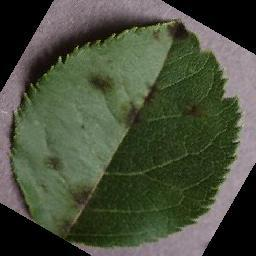apple healthy: (7, 17, 244, 249)
